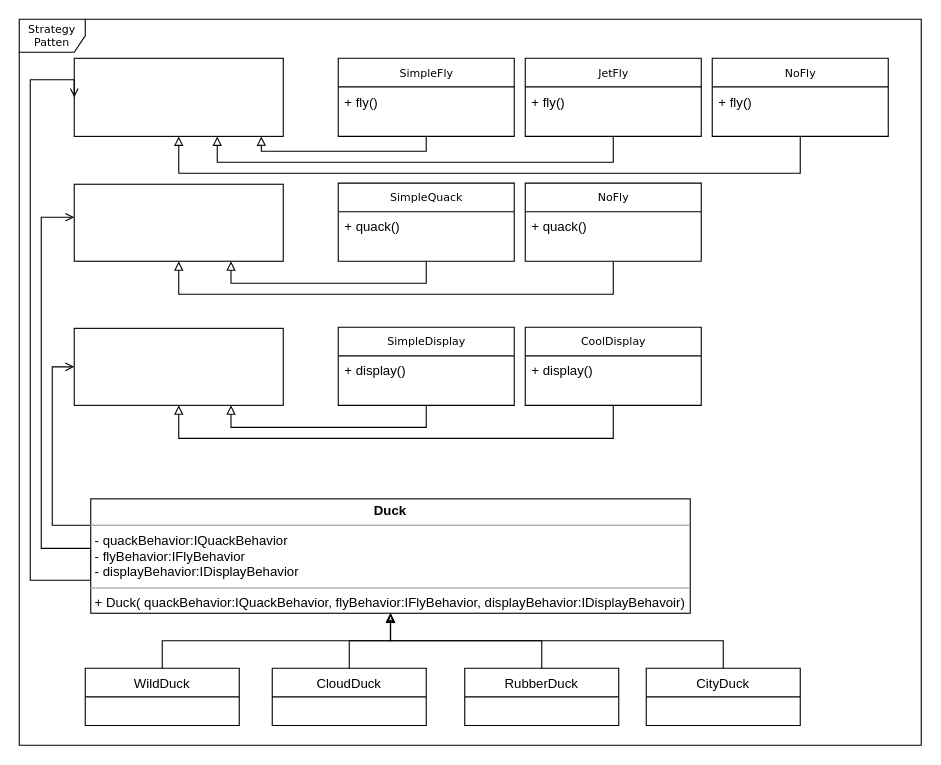
This 941x765 diagram has some shape labels left out. Each missing label, with the centre of its shape:
<<Interface>> IDisplayBehavior + display(): point (178, 366)
<<Interface>> IFlyBehavior + Fly(): point (178, 96)
<<Interface>> IQuackBehavior + quack(): point (178, 222)
